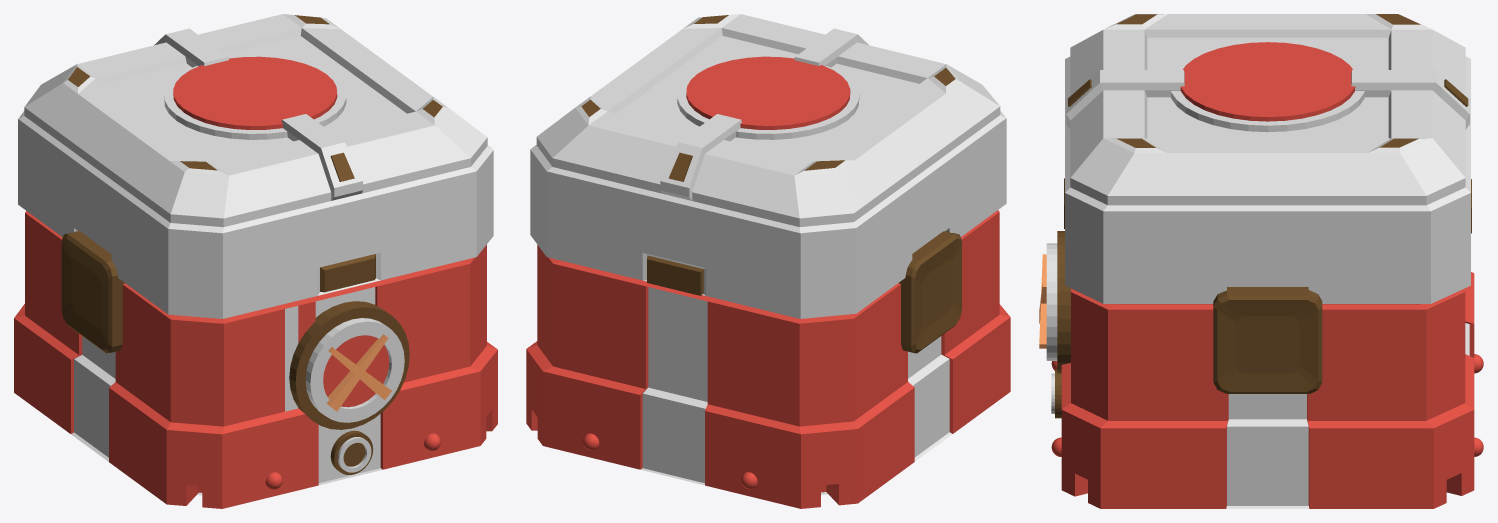
Rendered from CHEST_by_Silver_tmy.fbx.
The picture shows the model from 3 angles, left to right: view 1: azimuth 30°, elevation 25°; view 2: azimuth 150°, elevation 25°; view 3: azimuth 270°, elevation 25°; orthographic projection. The views are drawn at different scales.
Visible parts, largest first — view 1: Cube.001, Cube; view 2: Cube.001, Cube; view 3: Cube.001, Cube.
Boxes of the visible parts, x1,y1,x2,y2 form: Cube.001: [18, 14, 493, 318]; Cube: [14, 211, 497, 508]; Cube.001: [530, 14, 1006, 318]; Cube: [526, 210, 1010, 508]; Cube.001: [1064, 14, 1471, 303]; Cube: [1039, 231, 1483, 508].
Size of the model in its own units: 437 by 451 by 392.
